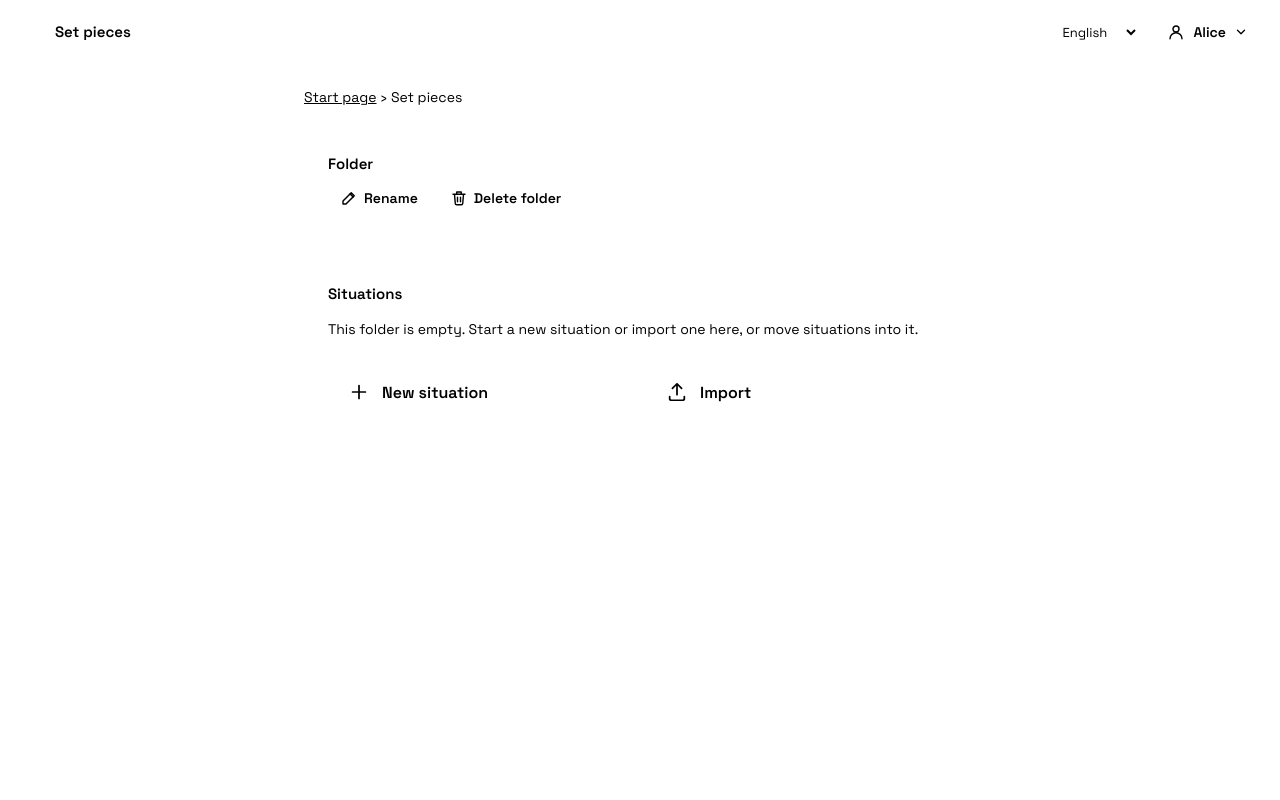
it: folder page › shows the server's reason when situations got into the folder meanwhile
The width and height of the screenshot is (1280, 800).
Click the button "Delete folder". click: (506, 198)
box: [438, 189, 573, 207]
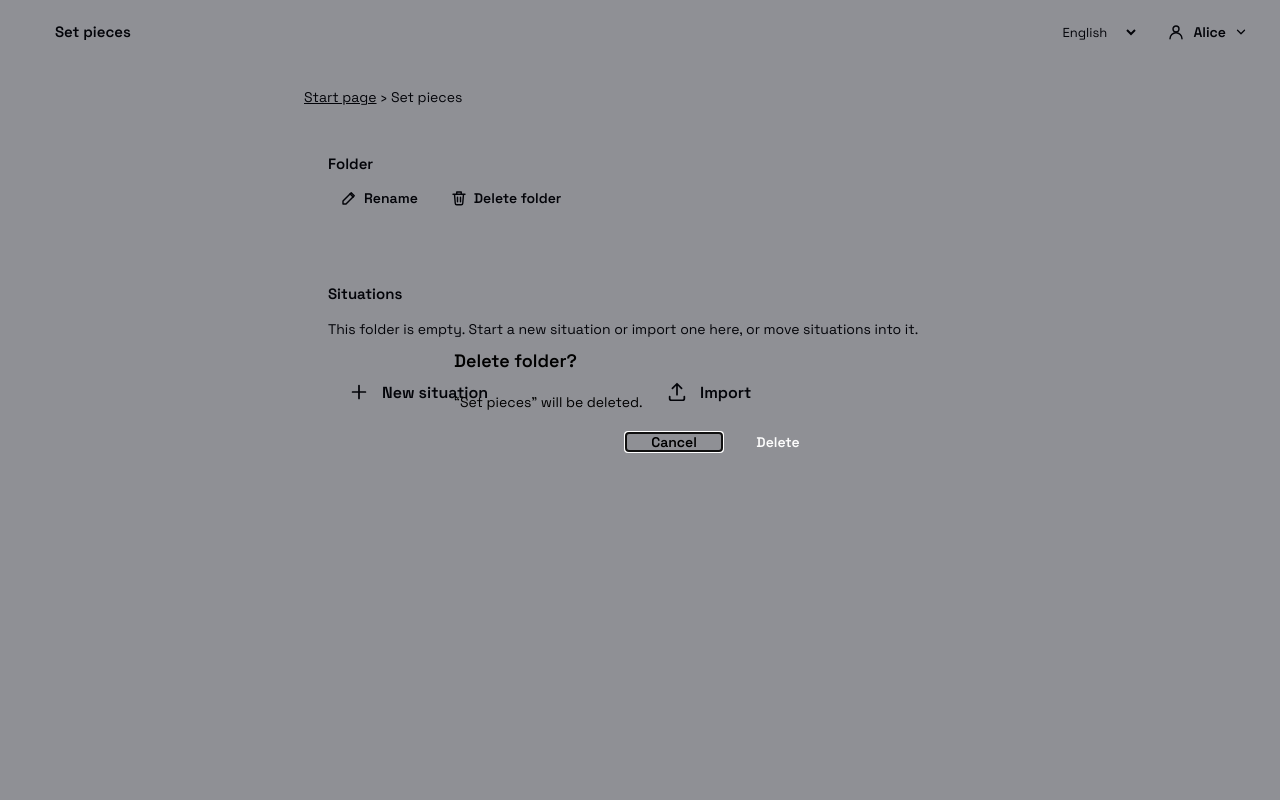
Click the button "Delete". click: (778, 442)
box: [730, 433, 826, 451]
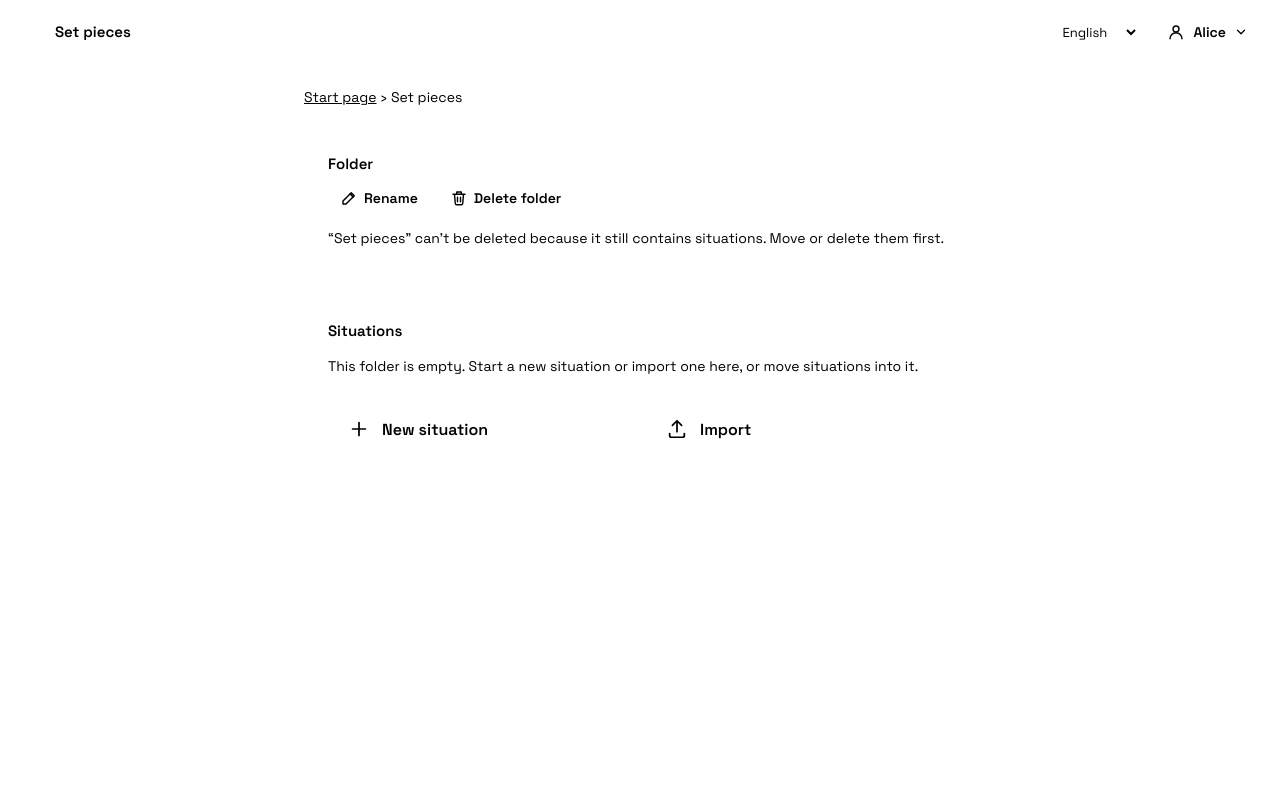
Check: the message shows "still contains situations", box [328, 229, 944, 247]
